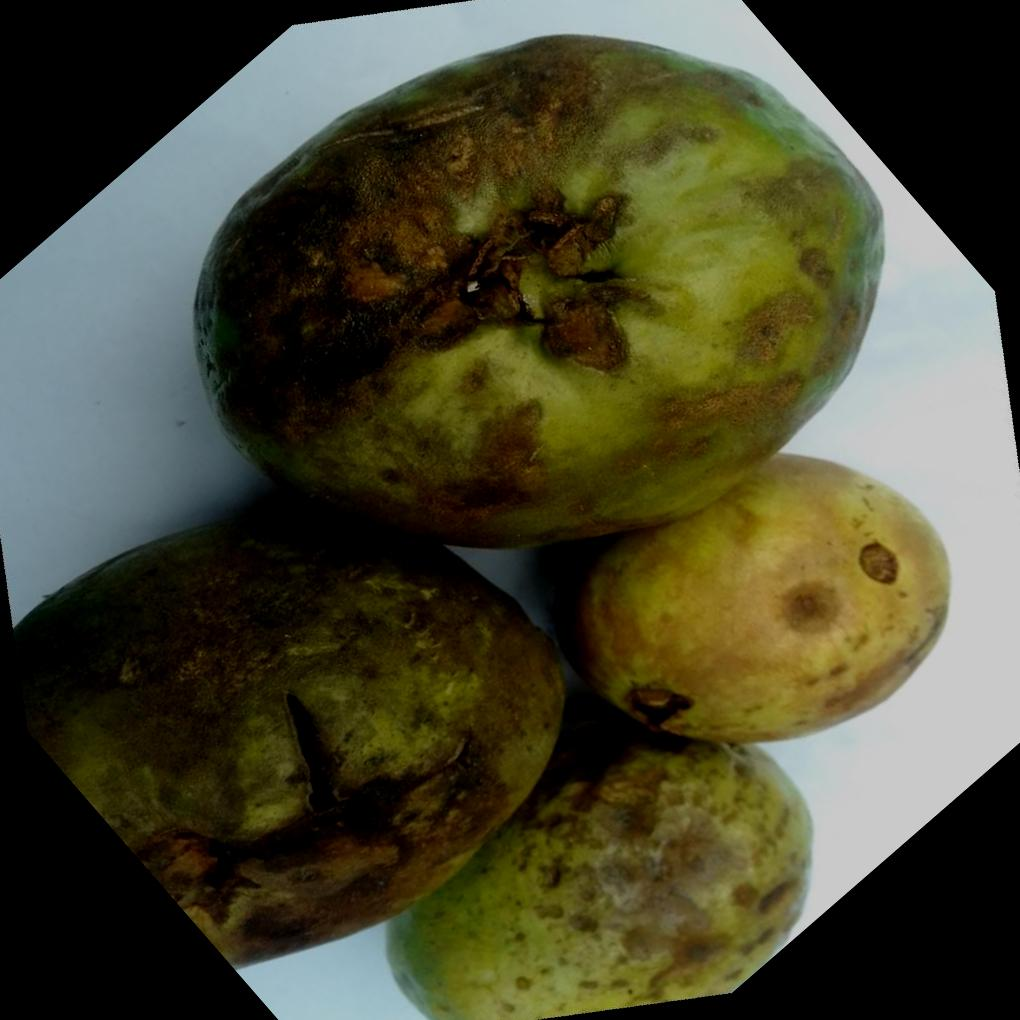FreshOrange: (10, 30, 951, 1020)
